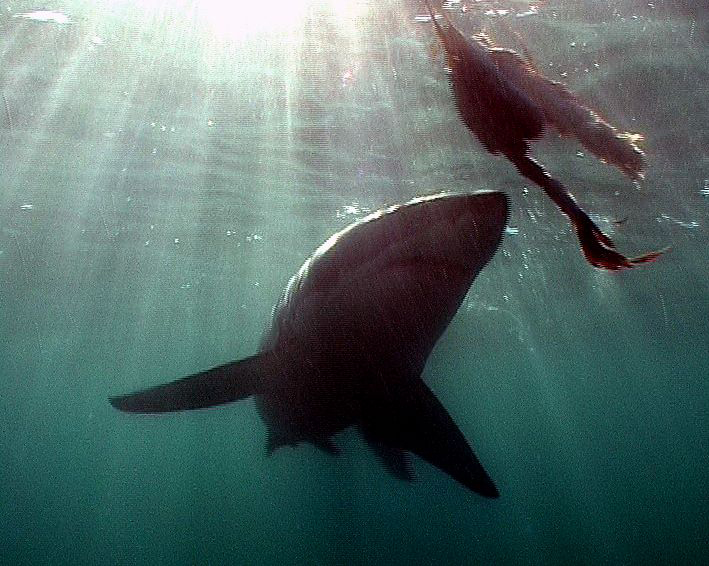Carcharodon_carcharias: (105, 184, 541, 510)
